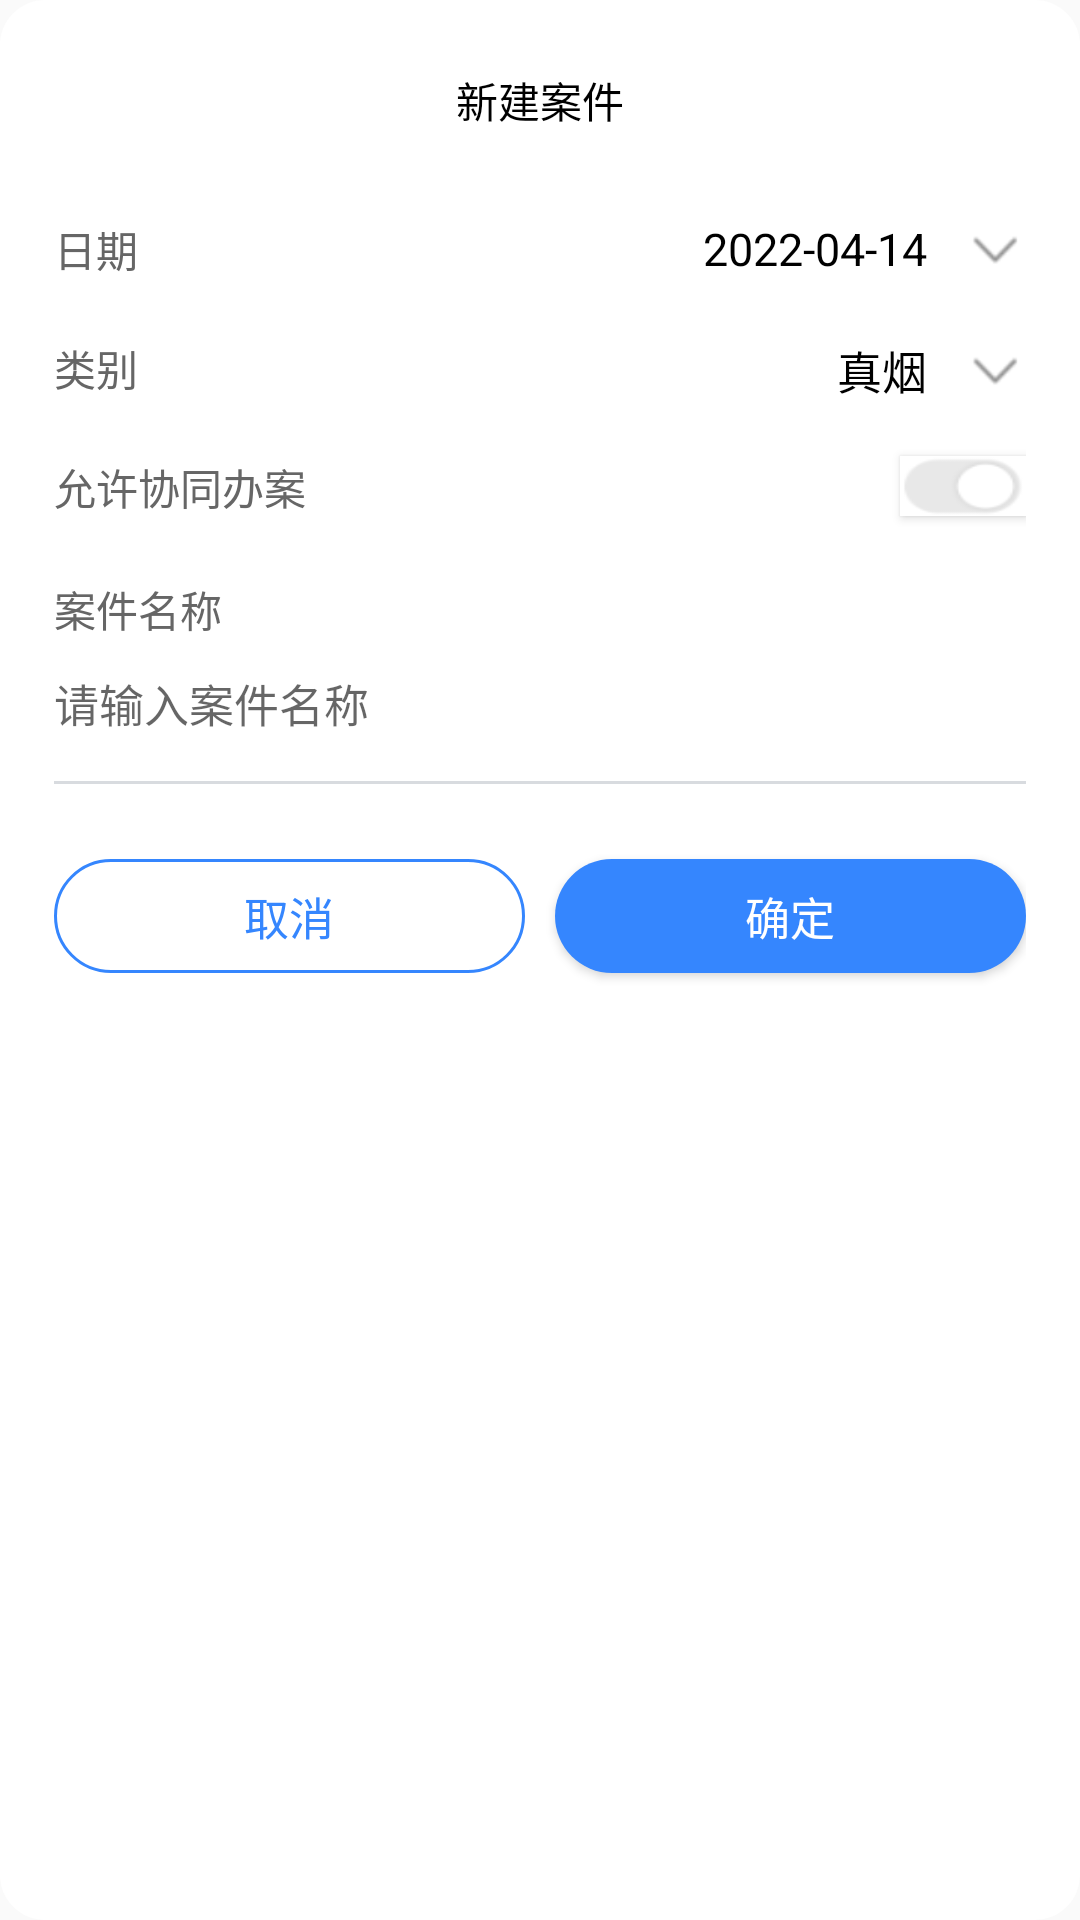

Icons on this 1080×1920 Android screen, each with the point to tap as (x,y):
arrow down: (995,250), (995,371)
